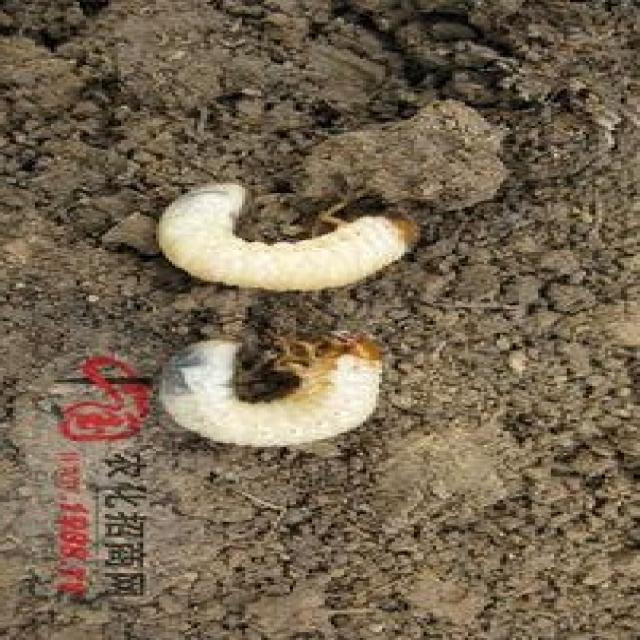grub: (159, 172, 423, 292), (157, 328, 399, 458)
